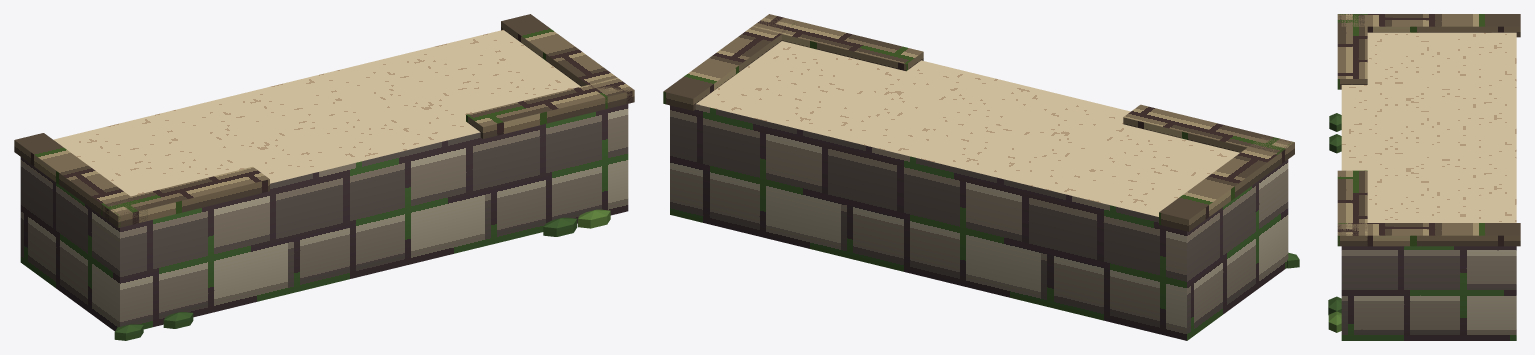
Rendered from scene_plat_o7.glb.
3 renders of one model, left to right at view 1: azimuth 30°, elevation 25°; view 2: azimuth 150°, elevation 25°; view 3: azimuth 270°, elevation 25°, orthographic. The views are drawn at different scales.
Parts seen in each view (by area): view 1: scene_plat_o7; view 2: scene_plat_o7; view 3: scene_plat_o7.
Boxes of the visible parts, box(x1,y1,x2,y2) form: scene_plat_o7: box(14, 14, 634, 340); scene_plat_o7: box(663, 14, 1299, 340); scene_plat_o7: box(1328, 14, 1520, 340).
Bounding box in the file's own units: 6.35 × 1.48 × 2.31.
Materials: 3 (2 with a texture image).
